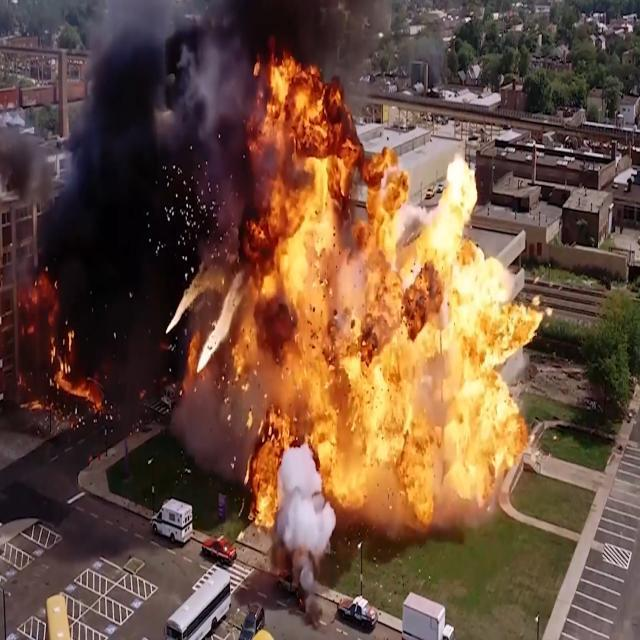fire: (163, 41, 547, 526)
